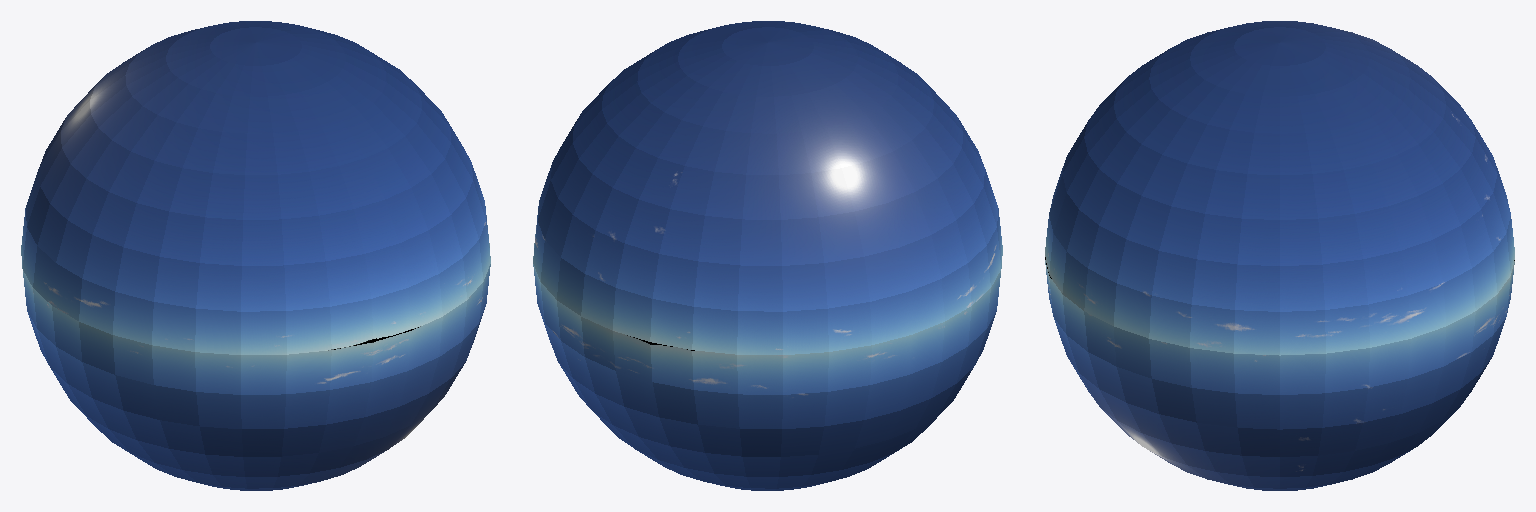
3 views of the same model, side by side, from view 1: azimuth 30°, elevation 25°; view 2: azimuth 150°, elevation 25°; view 3: azimuth 270°, elevation 25° (orthographic).
Visible parts, largest first — view 1: Sphere_Sphere.001; view 2: Sphere_Sphere.001; view 3: Sphere_Sphere.001.
Part boxes in pixels (bbox=[...]): Sphere_Sphere.001: bbox=[21, 21, 490, 490]; Sphere_Sphere.001: bbox=[533, 21, 1002, 490]; Sphere_Sphere.001: bbox=[1045, 21, 1514, 490].
Bounding box in the file's own units: 2 × 2 × 2.
1 materials, 1 textured.